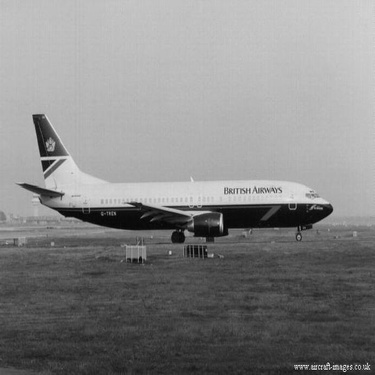airplane: (7, 91, 346, 276)
